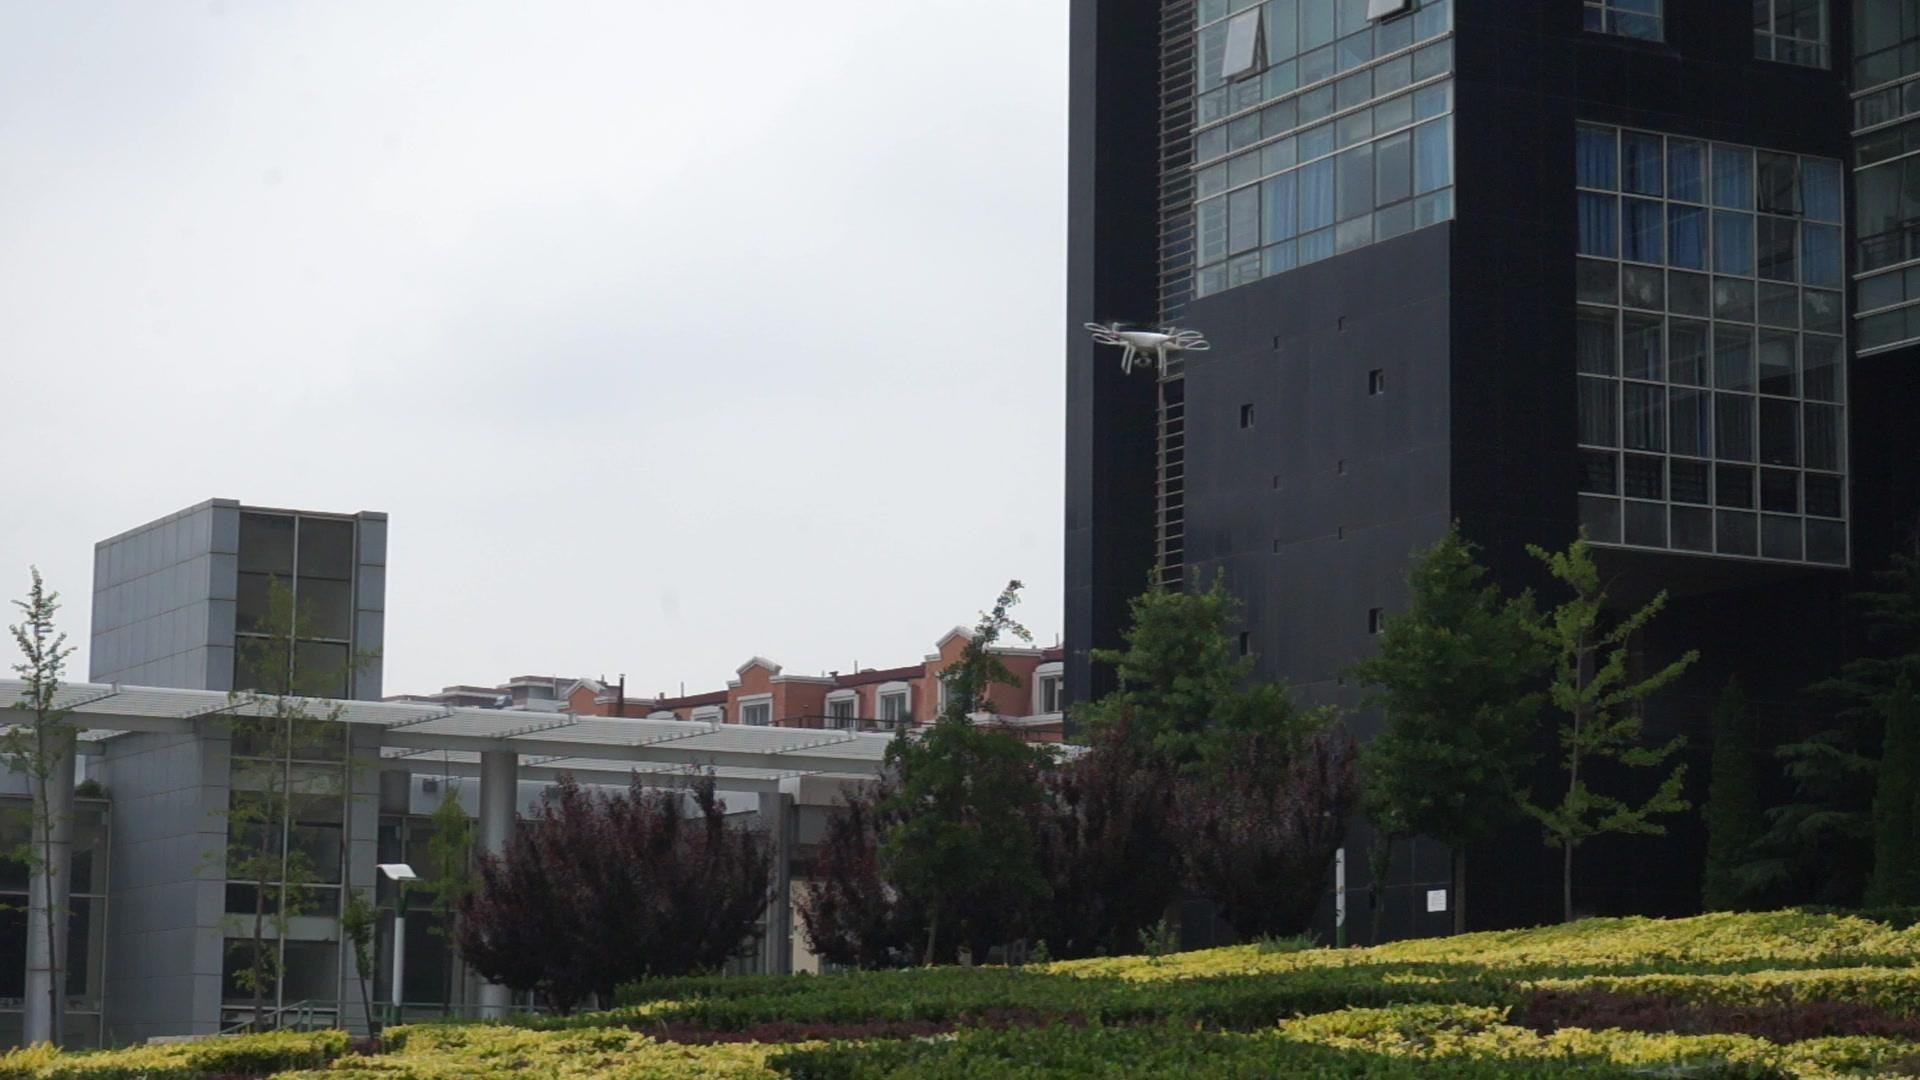UAV: (1085, 322, 1212, 377)
